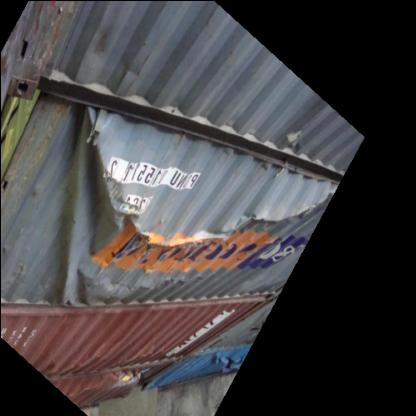Damage: (108, 193, 334, 270), (64, 106, 136, 320)
